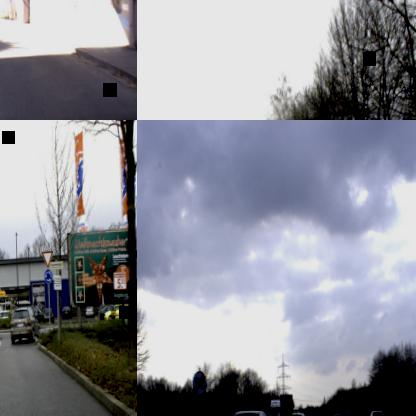give way: (40, 250, 53, 268)
restriction ends: (192, 370, 207, 396)
roundabout: (43, 268, 52, 284)
